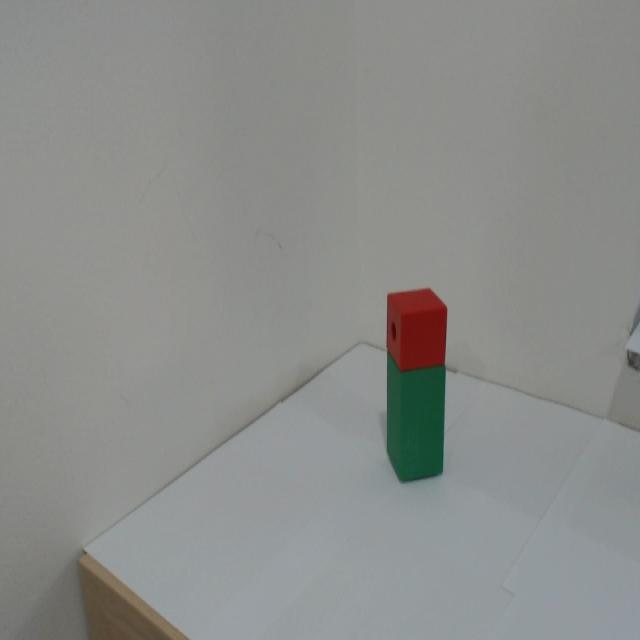cube: (368, 270, 452, 373)
